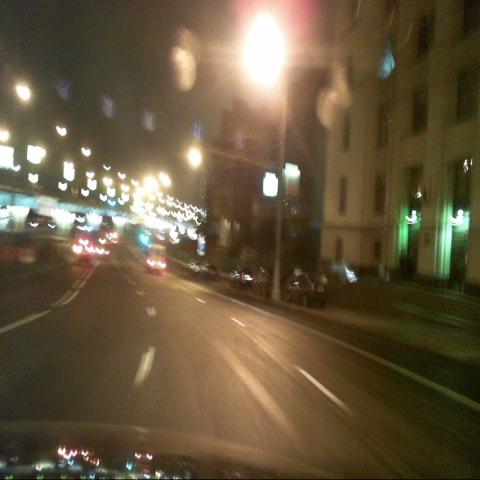5_15_2: (104, 97, 115, 118)
